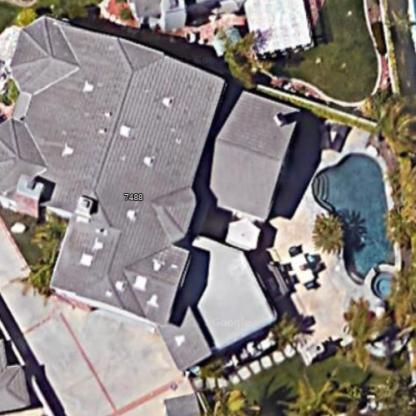pool: (307, 144, 401, 301)
